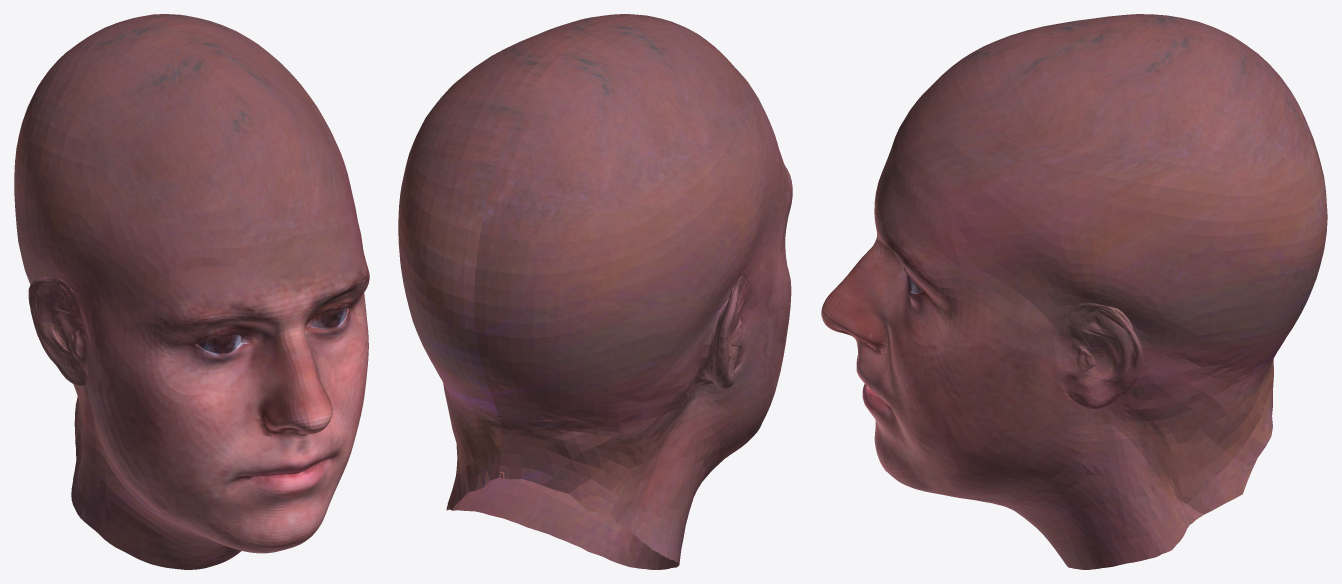
The model's file is result_prompt.obj.
3 views of the same model, side by side, from view 1: azimuth 30°, elevation 25°; view 2: azimuth 150°, elevation 25°; view 3: azimuth 270°, elevation 25° (orthographic). The views are drawn at different scales.
Size of the model in its own units: 191 by 314 by 271.
